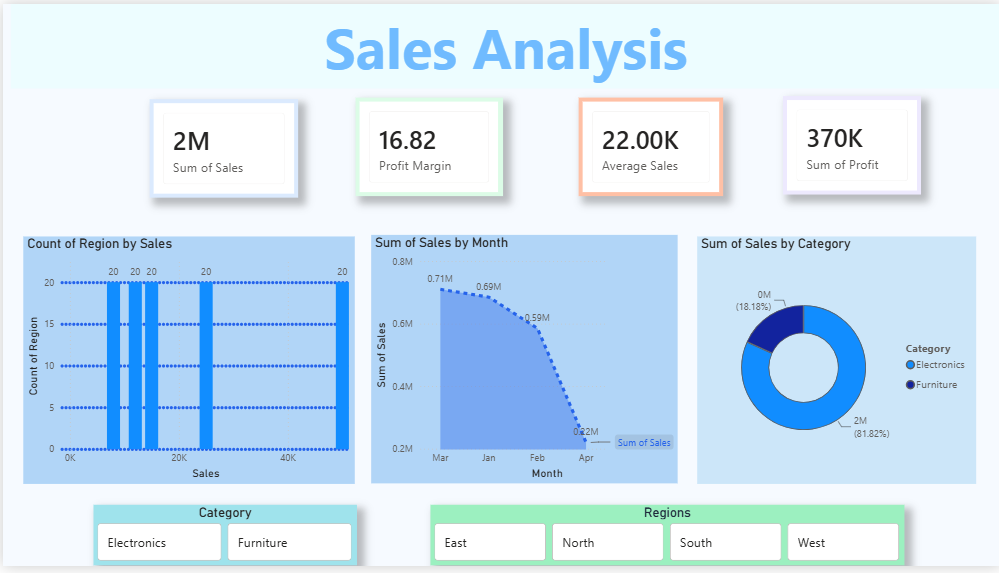

The dashboard page shown, as its layout file describes it:
{"tool":"powerbi","page":{"name":"Page 1","canvas":[1280,720],"ordinal":0},"visuals":[{"type":"textbox","box":[10.3,0,1270,108.3],"z":0},{"type":"cardVisual","fields":{"Data":["Sum(SalesData.Sales)"]},"box":[187.2,121.4,190.6,126.5],"z":1000},{"type":"cardVisual","fields":{"Data":["Sum(SalesData.Profit)"]},"box":[1000,118,177.1,126.5],"z":2000},{"type":"clusteredColumnChart","fields":{"Category":["SalesData.Sales"],"Y":["CountNonNull(SalesData.Region)"]},"box":[27,298.5,424.9,317],"z":3000},{"type":"donutChart","fields":{"Category":["SalesData.Category"],"Y":["Sum(SalesData.Sales)"]},"box":[890,297.5,357.5,317.5],"z":4000},{"type":"lineChart","fields":{"Category":["SalesData.Month"],"Y":["Sum(SalesData.Sales)"]},"box":[472.2,296.8,392.9,318.7],"z":5000},{"type":"advancedSlicerVisual","title":"Regions","fields":{"Values":["SalesData.Region"]},"box":[547.5,642.5,607.5,77.5],"z":6000},{"type":"advancedSlicerVisual","fields":{"Values":["SalesData.Category"]},"box":[115,642.5,337.5,77.5],"z":7000},{"type":"cardVisual","fields":{"Data":["SalesData.Profit Margin"]},"box":[451.9,119.7,188.9,126.5],"z":8000},{"type":"cardVisual","fields":{"Data":["SalesData.Average Sales"]},"box":[738.6,119.7,185.5,126.5],"z":9000}]}

Visuals, with their boxes in screenshot pixels (x1, y1, x2, y2), scaled from the page's 1280x720 canvas onto the 999x573 screenshot:
textbox: locate(8, 0, 998, 86)
cardVisual - Sum(SalesData.Sales): locate(146, 97, 295, 197)
cardVisual - Sum(SalesData.Profit): locate(780, 94, 919, 195)
clusteredColumnChart - SalesData.Sales x CountNonNull(SalesData.Region): locate(21, 238, 353, 490)
donutChart - SalesData.Category x Sum(SalesData.Sales): locate(695, 237, 974, 489)
lineChart - SalesData.Month x Sum(SalesData.Sales): locate(369, 236, 675, 490)
"Regions" advancedSlicerVisual: locate(427, 511, 901, 572)
advancedSlicerVisual - SalesData.Category: locate(90, 511, 353, 572)
cardVisual - SalesData.Profit Margin: locate(353, 95, 500, 196)
cardVisual - SalesData.Average Sales: locate(576, 95, 721, 196)
